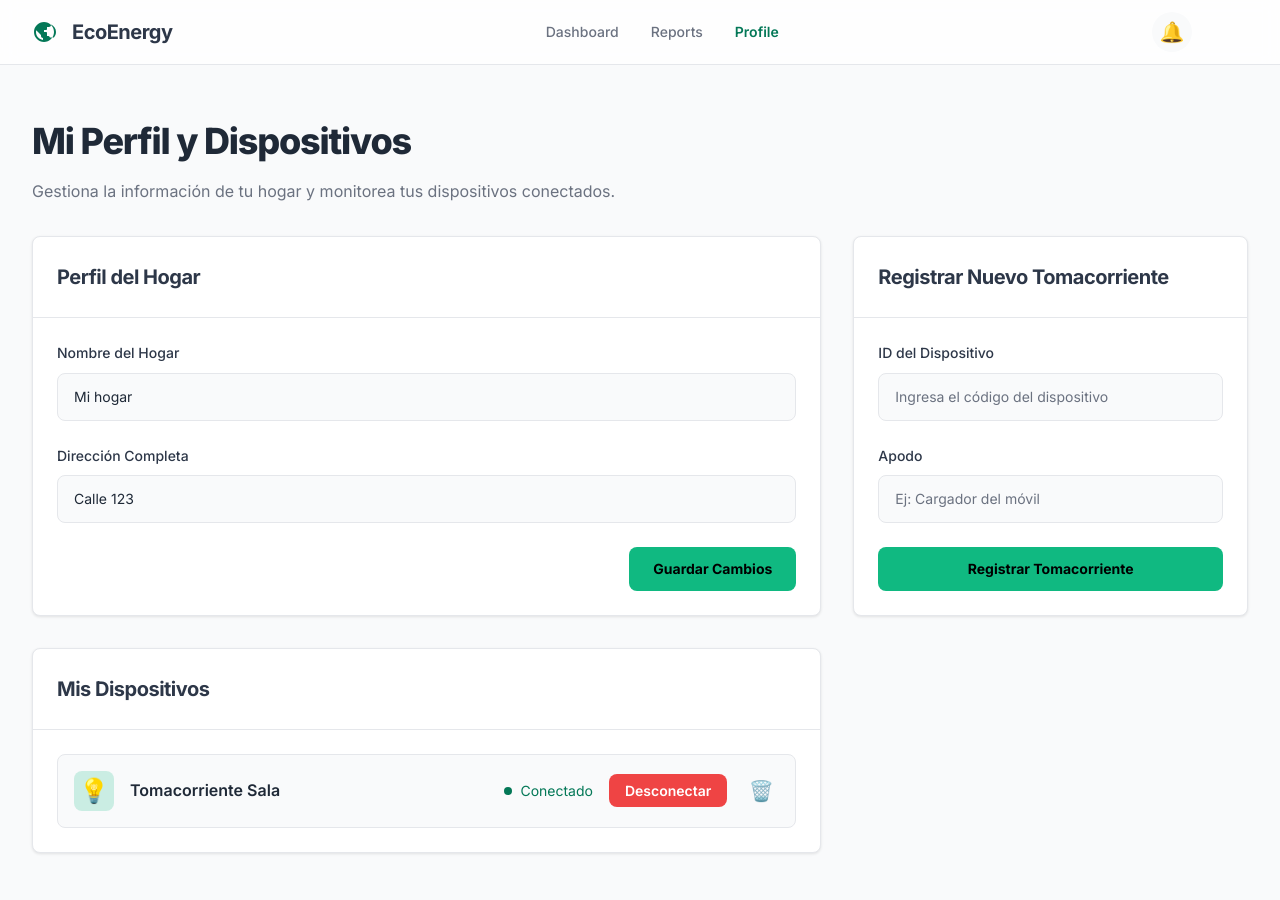
Test: Eliminación de tomacorrientes en perfil › CP-DEL-003 muestra error del backend y conserva el dispositivo
Expected: the heading "Mis Dispositivos" is shown, [57,677,209,701]
Click the button titled "eliminar dispositivo" at (761, 791), box [743,773,779,809]
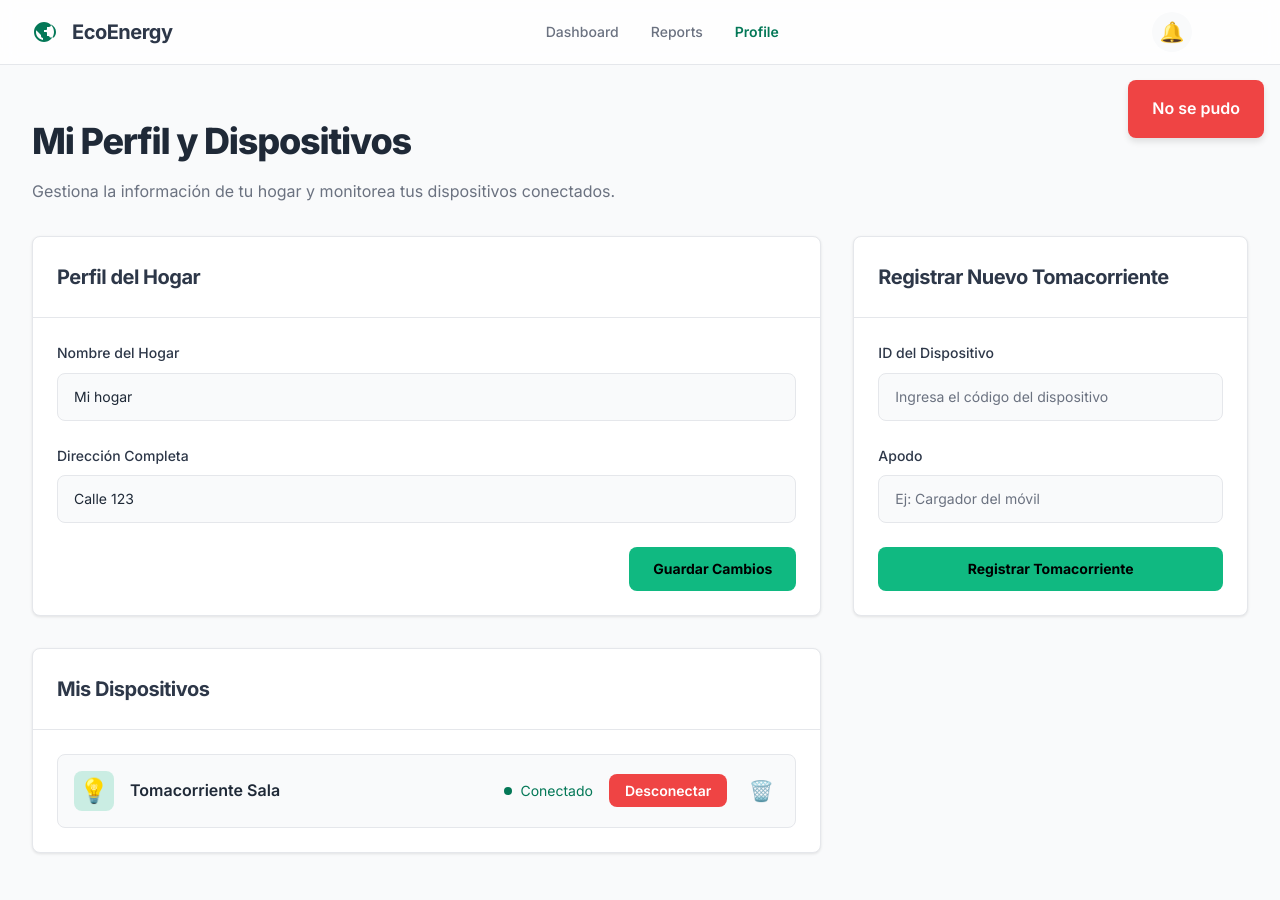
Expected: the field showing "Tomacorriente Sala" is shown, [130,780,488,800]
Result: the text "No se pudo" is shown at [1128,80,1264,138]
